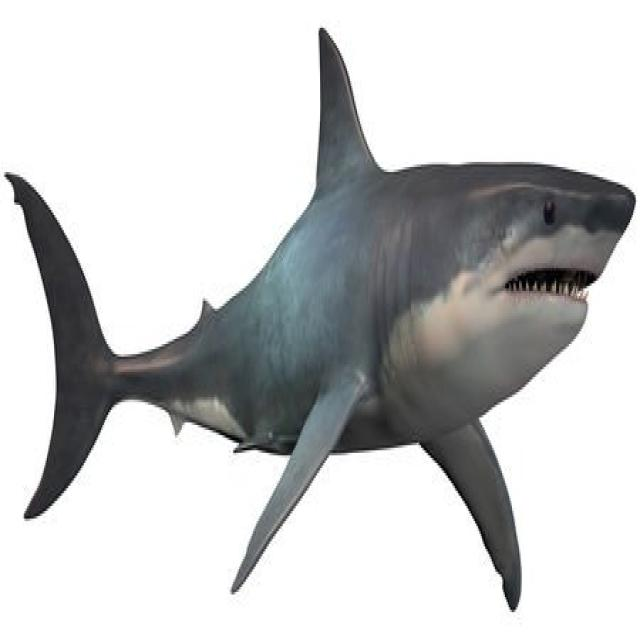shark: (7, 30, 633, 607)
